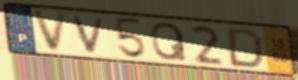2: (188, 24, 226, 66)
5: (112, 17, 149, 60)
D: (226, 26, 265, 70)
Q: (149, 20, 189, 62)
V: (31, 9, 71, 54), (70, 15, 109, 55)
